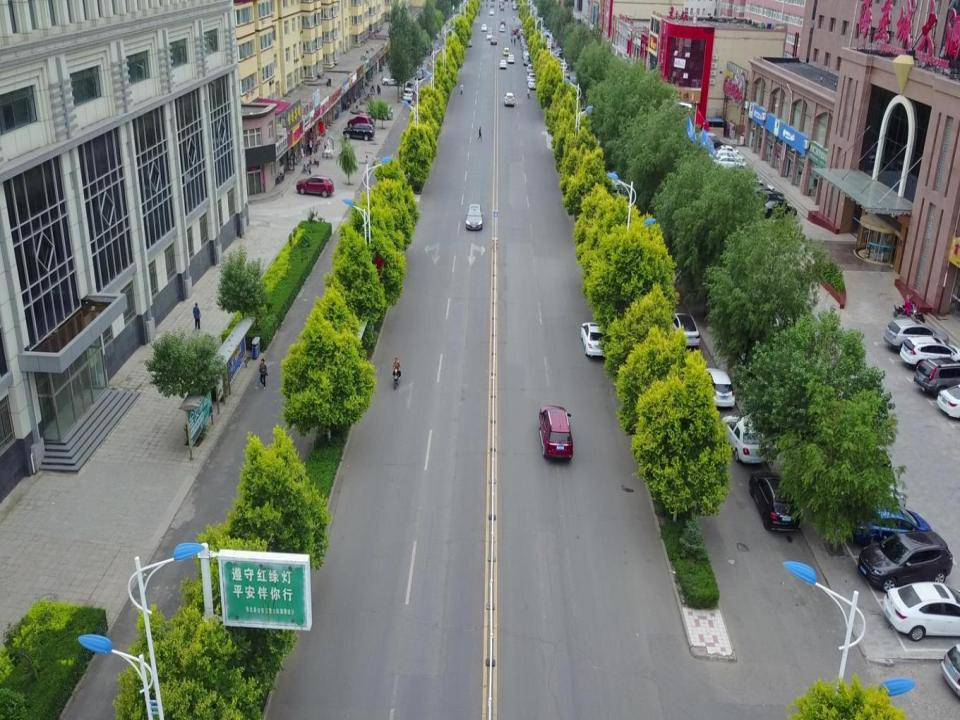car: (858, 529, 952, 590), (881, 580, 960, 643), (848, 504, 934, 548), (749, 468, 803, 532), (883, 317, 949, 355), (721, 414, 769, 465), (912, 356, 960, 400), (900, 335, 960, 370), (538, 405, 574, 462), (701, 366, 735, 410), (580, 322, 614, 358), (668, 312, 700, 348), (747, 185, 788, 211), (296, 174, 334, 198), (605, 152, 628, 189), (936, 384, 960, 419), (762, 200, 797, 222), (342, 122, 374, 142), (740, 178, 774, 196), (714, 154, 746, 172), (464, 203, 484, 231), (714, 148, 744, 164), (348, 112, 374, 130), (709, 144, 739, 159), (381, 74, 403, 86), (402, 88, 414, 102), (504, 93, 515, 106), (526, 71, 536, 83), (414, 69, 424, 80), (527, 78, 537, 89), (523, 55, 531, 67), (498, 59, 507, 69), (506, 54, 514, 64), (527, 64, 535, 73), (502, 48, 510, 56)
van: (405, 80, 415, 95)
